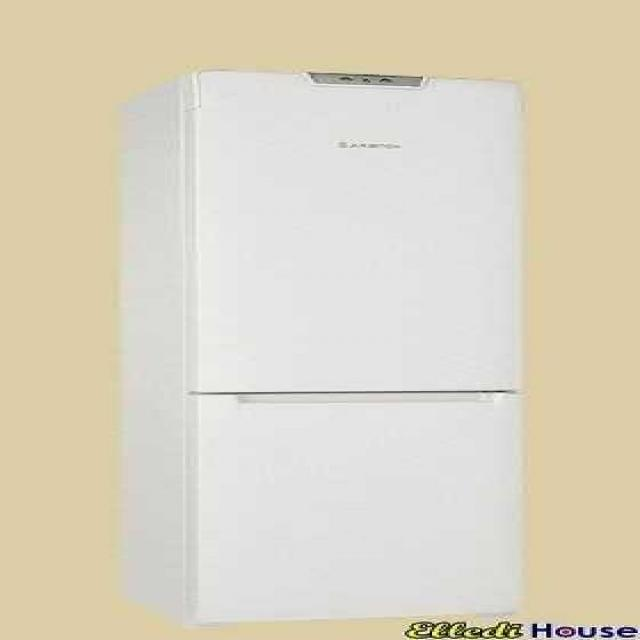refrigerator: (182, 68, 532, 623)
